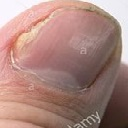Nail Fungal Infection: (8, 10, 58, 58)
